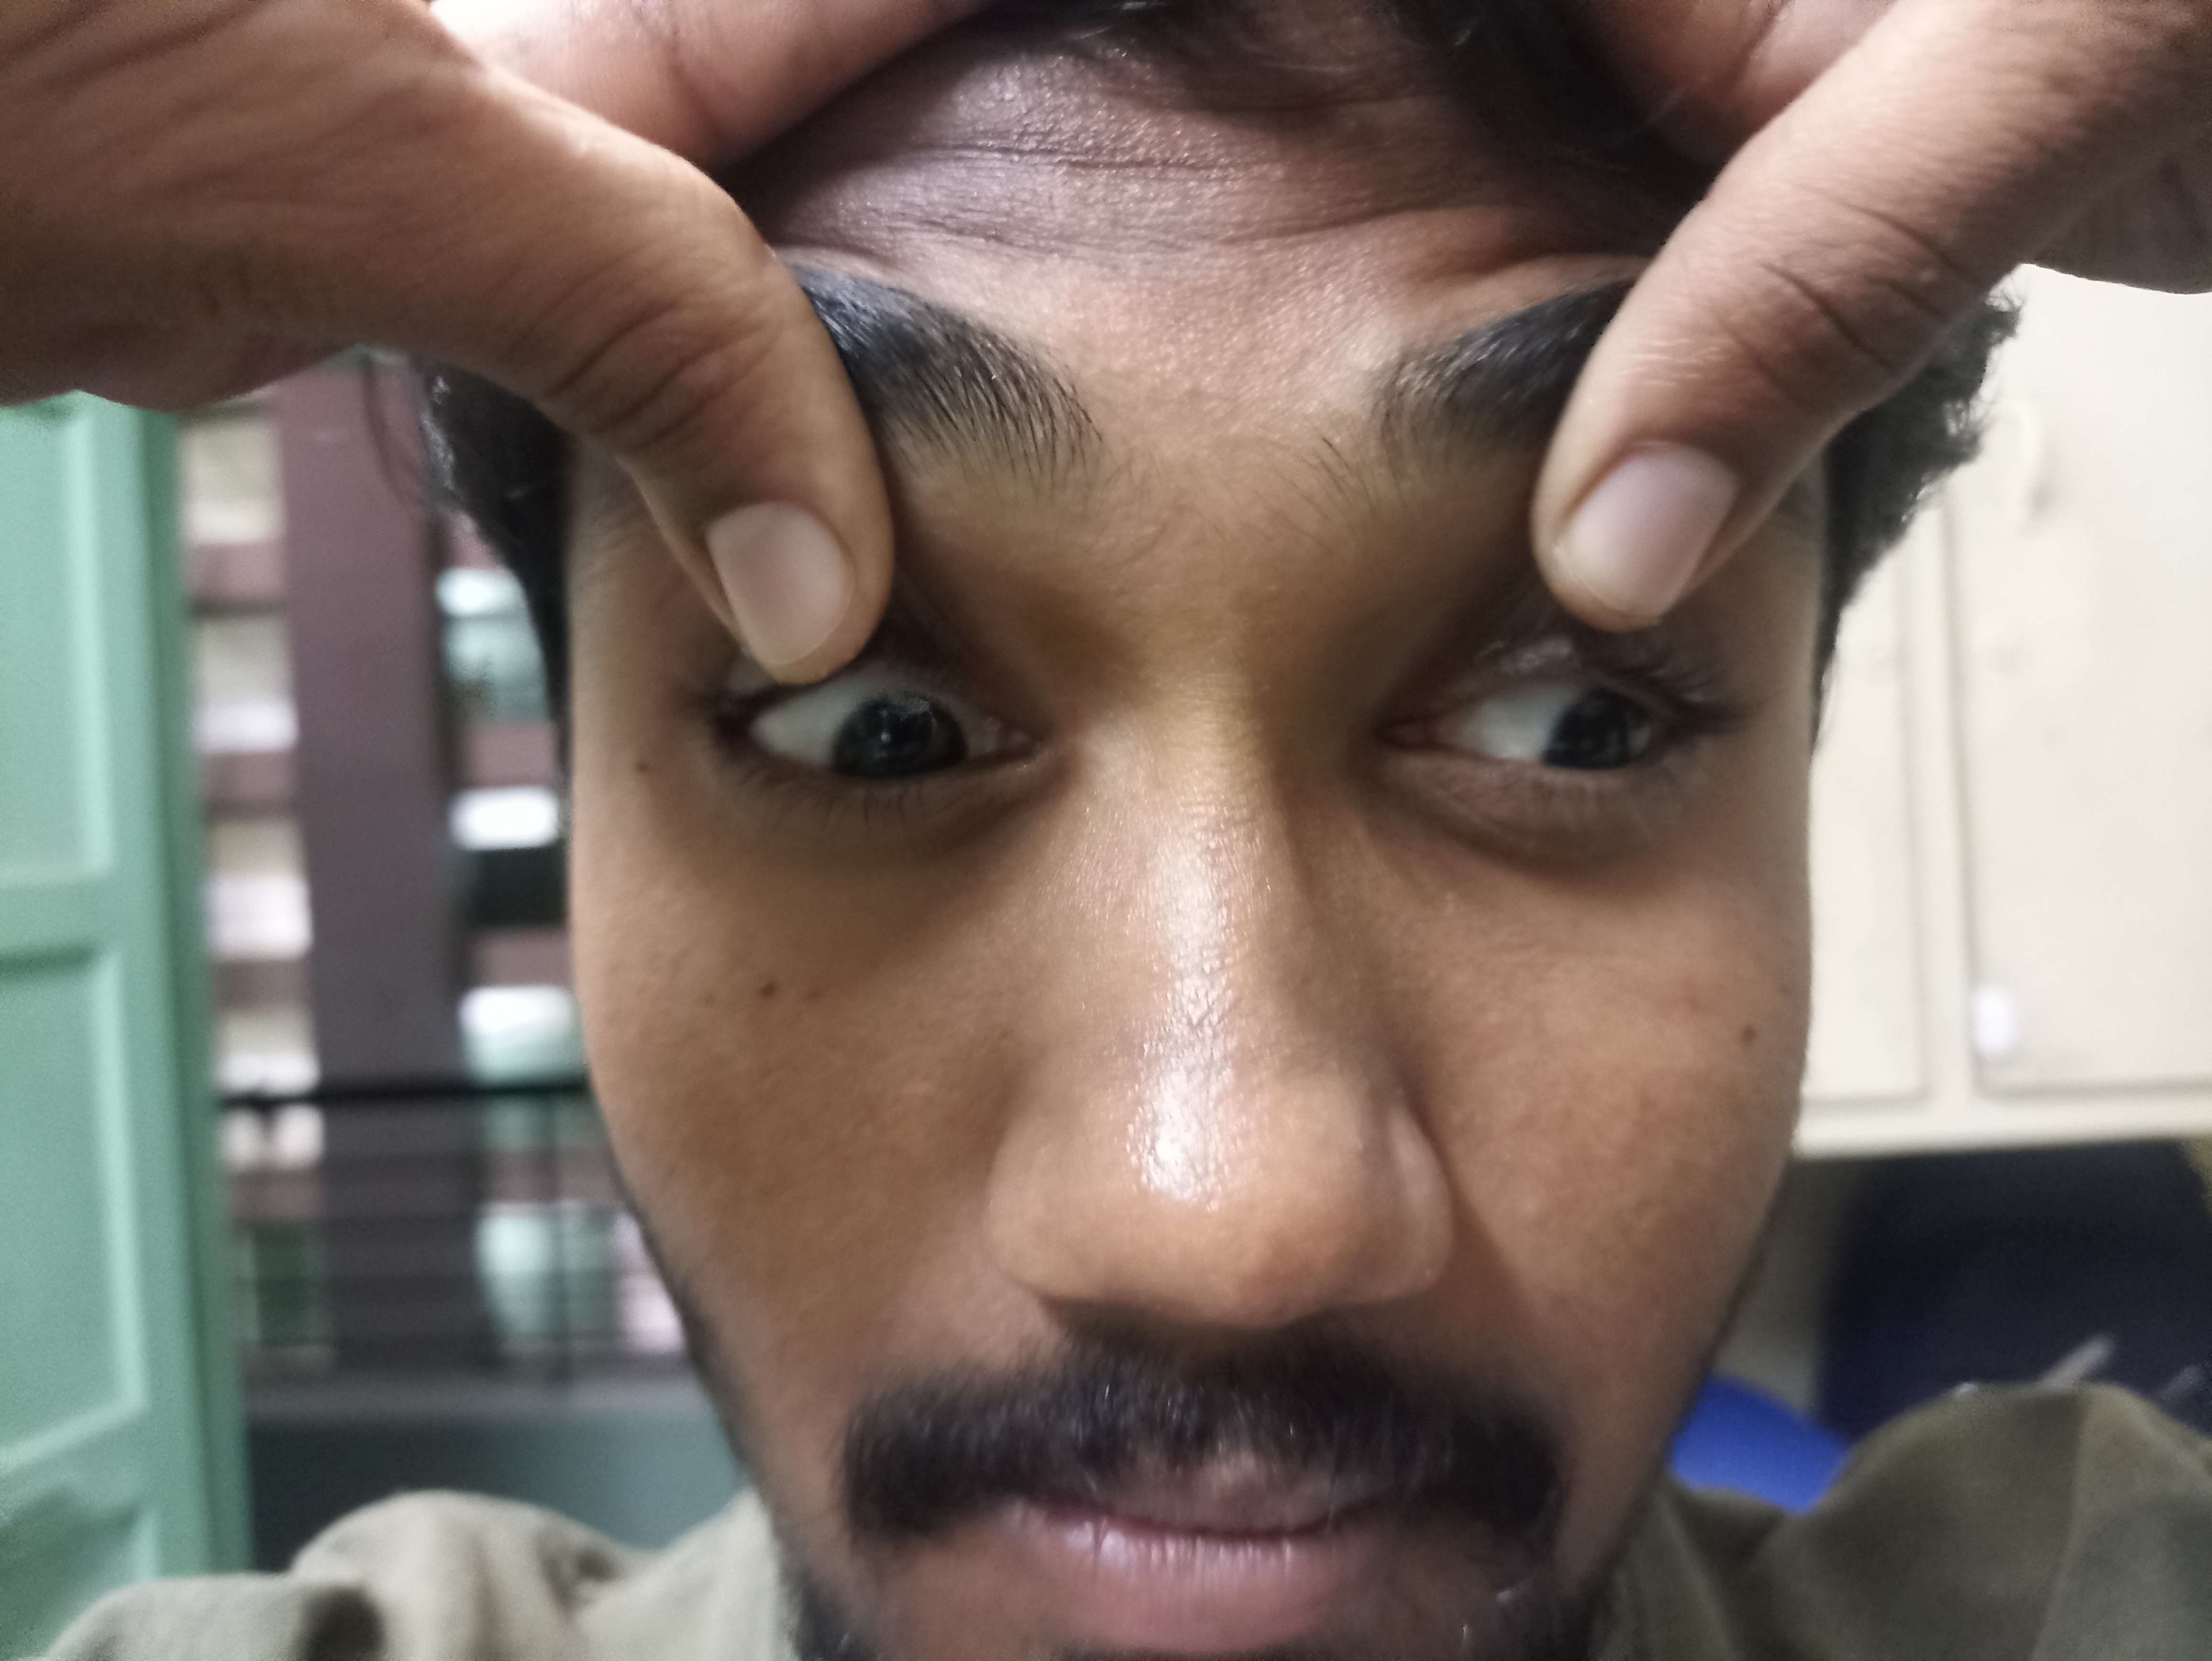EYE DOWN: (1307, 523, 1903, 963), (562, 513, 1115, 939)
